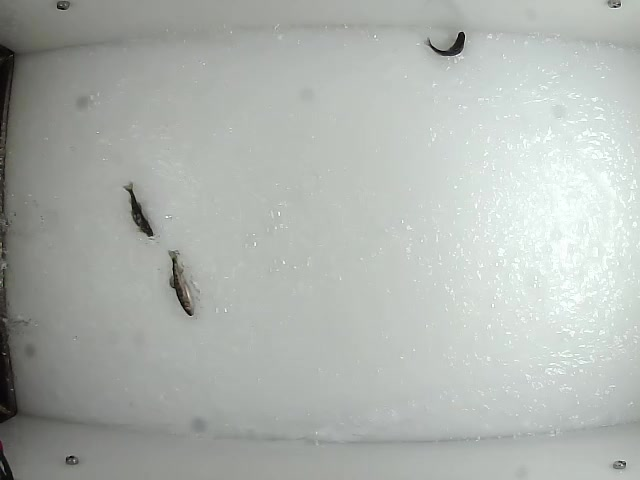fish: (164, 248, 195, 317), (121, 181, 155, 242), (422, 27, 468, 58)
